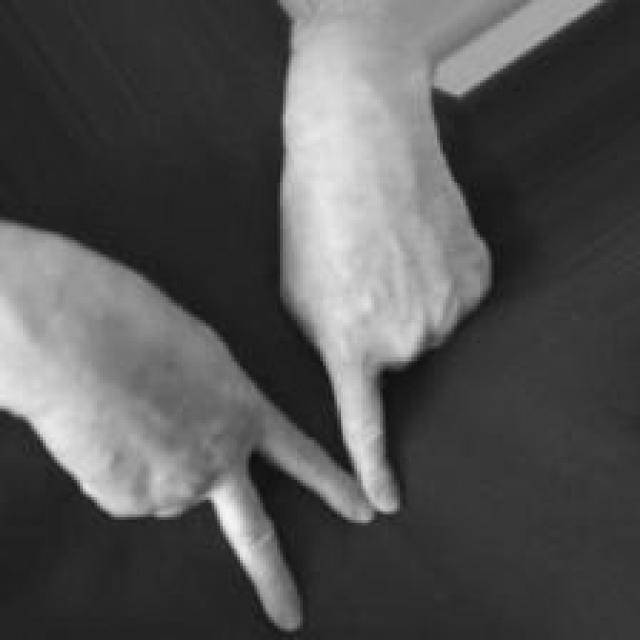N: (0, 215, 496, 632)
